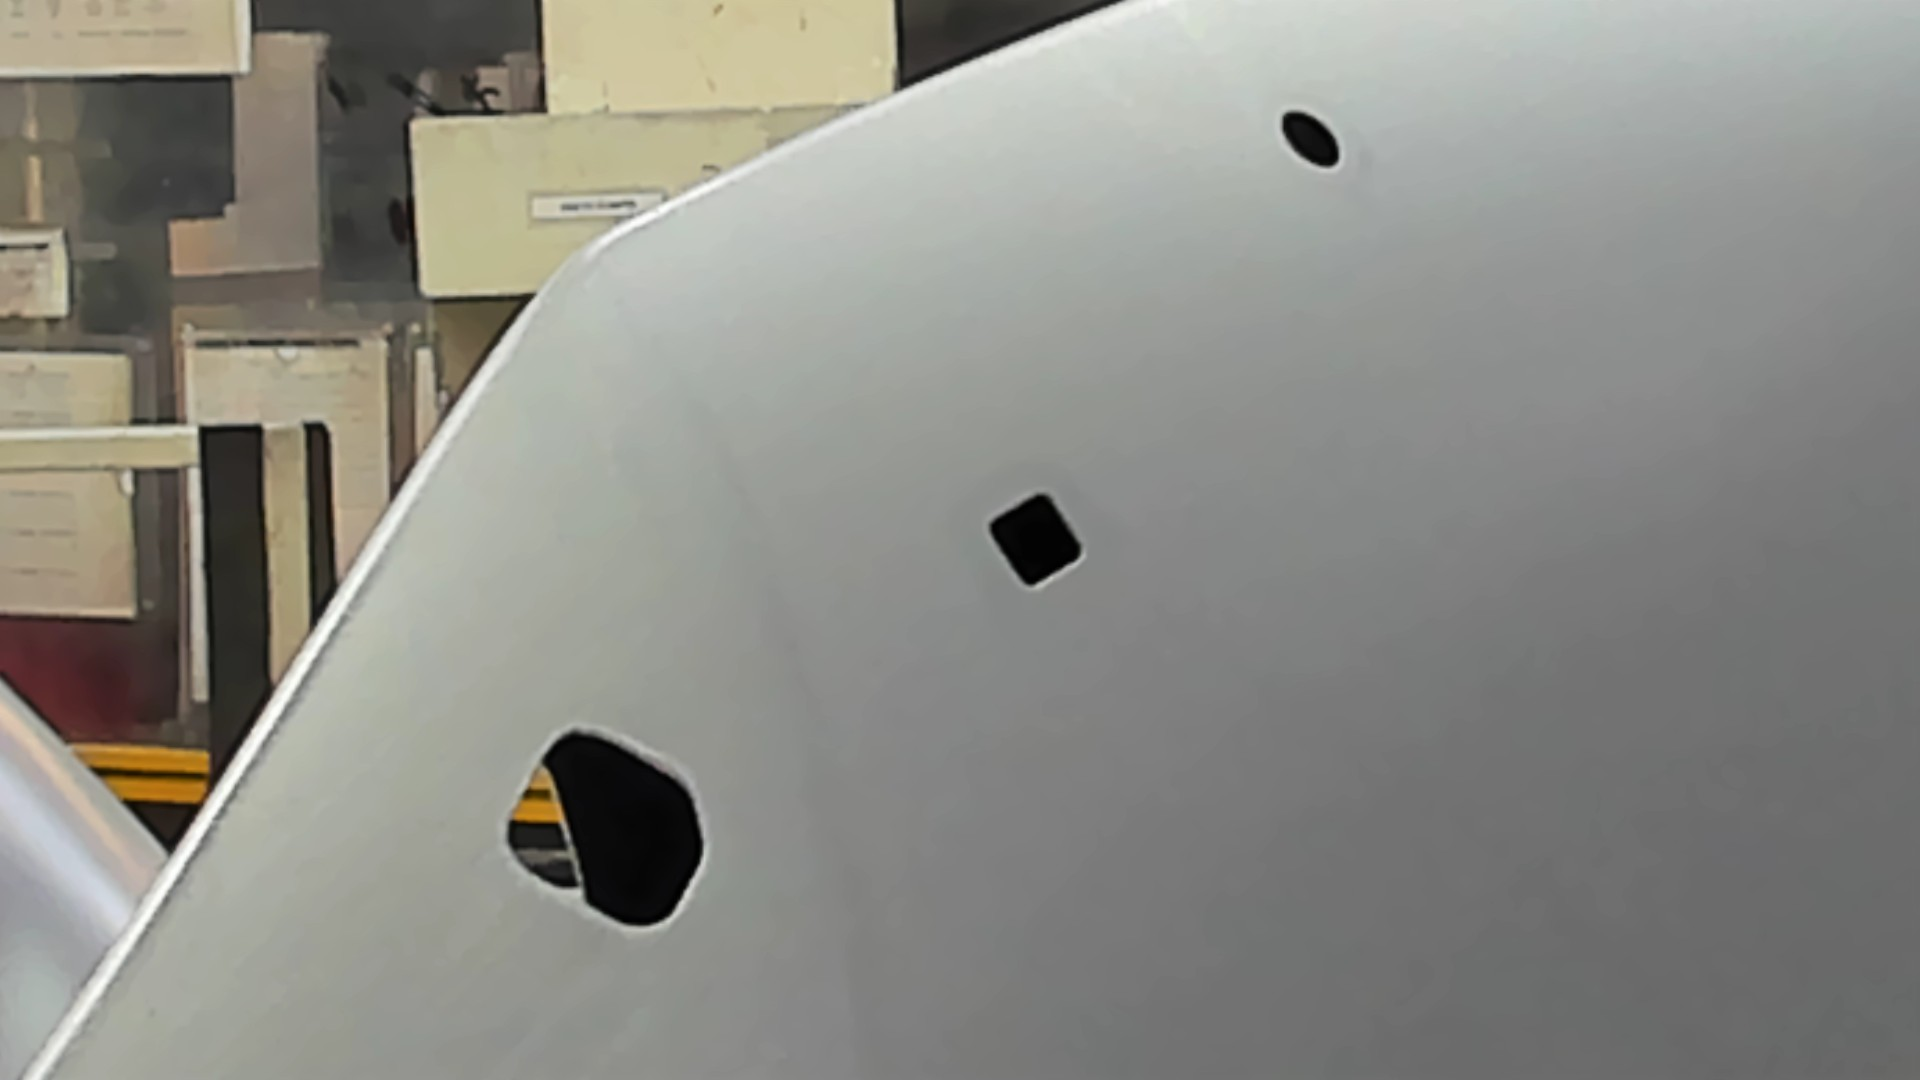chico: (1275, 105, 1341, 173)
grande: (495, 720, 713, 935)
mediano: (982, 485, 1091, 596)
